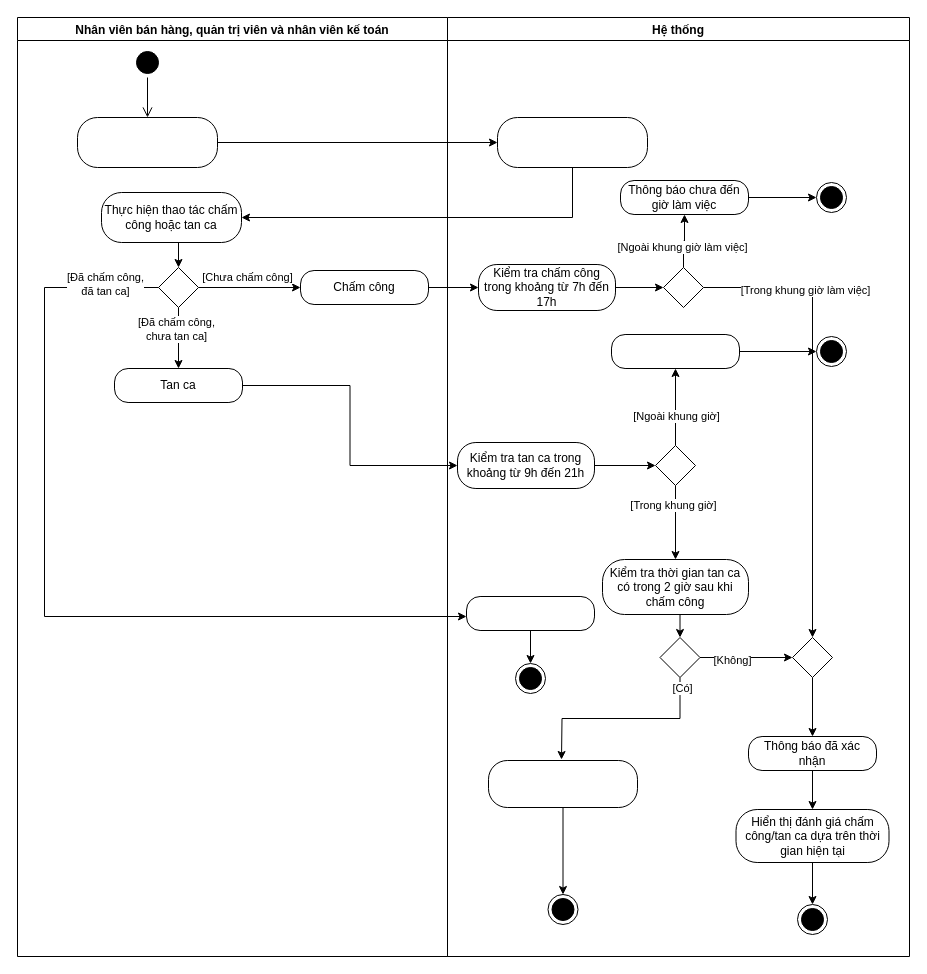
Image size: 927x974. Some labels were removed from this diagram. The centre of each missing label's shape, as x and y in pixels:
"Chọn chức năng Chấm công" goes at (x=147, y=142).
"Hiển thị danh sách ngày chấm công trong tháng hiện tại" goes at (x=572, y=142).
"Thông báo chưa đến giờ tan ca" goes at (x=675, y=351).
"Thông báo không thể tan ca khi đã chấm công chưa được 2 giờ" goes at (x=563, y=784).
"Thông báo đã chấm công và đã tan ca" goes at (x=530, y=613).
